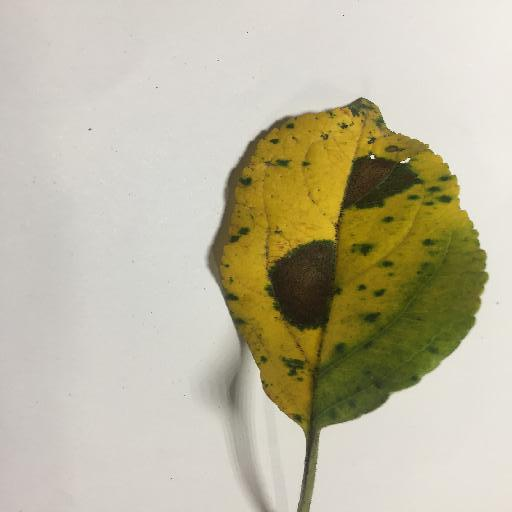Brown_Spot: (280, 244, 335, 318), (353, 162, 403, 198)
